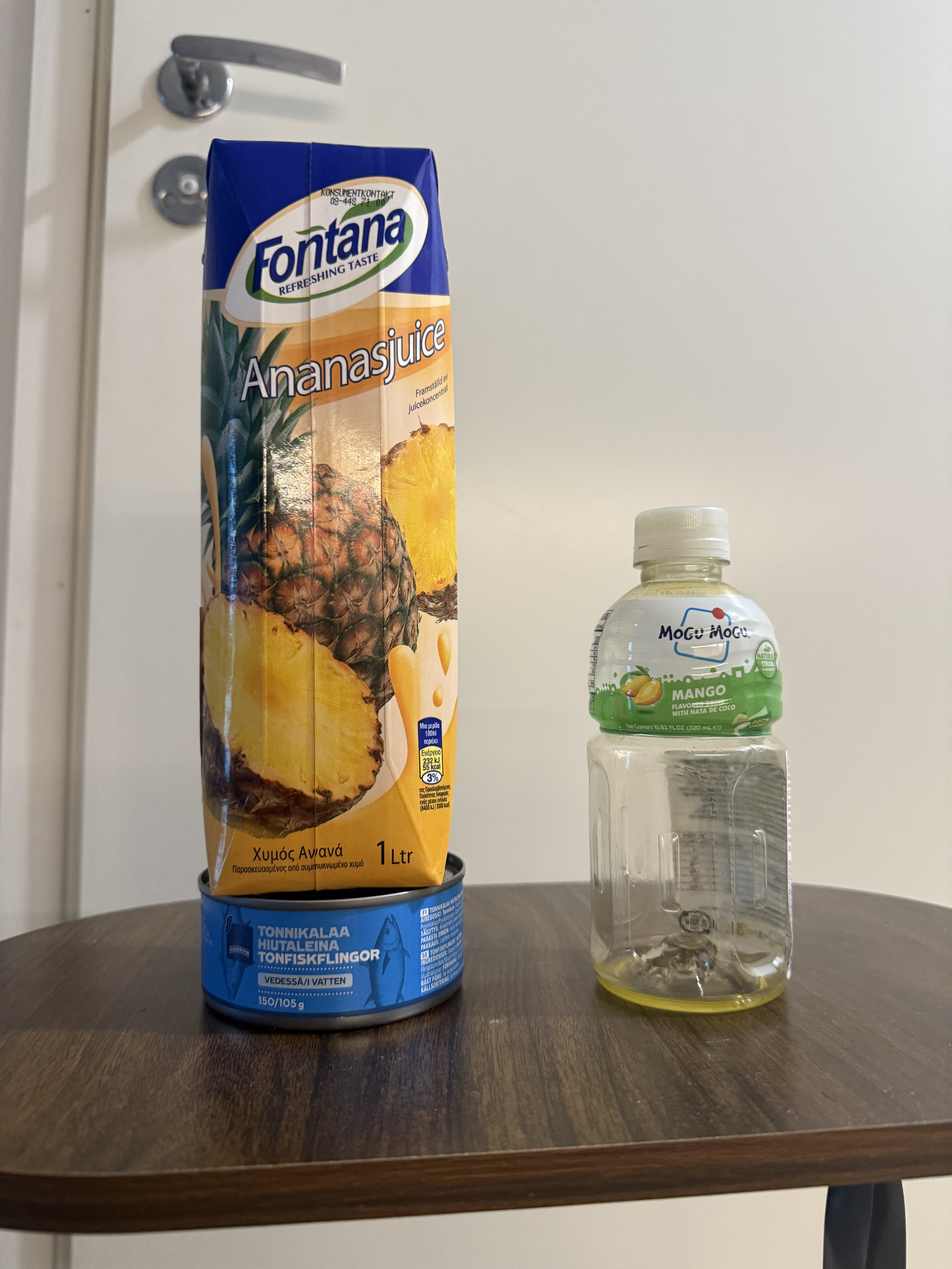Dryckeskartong: (197, 136, 454, 889)
Konservburk: (200, 894, 456, 1020)
Pantburk: (599, 503, 790, 1012)
